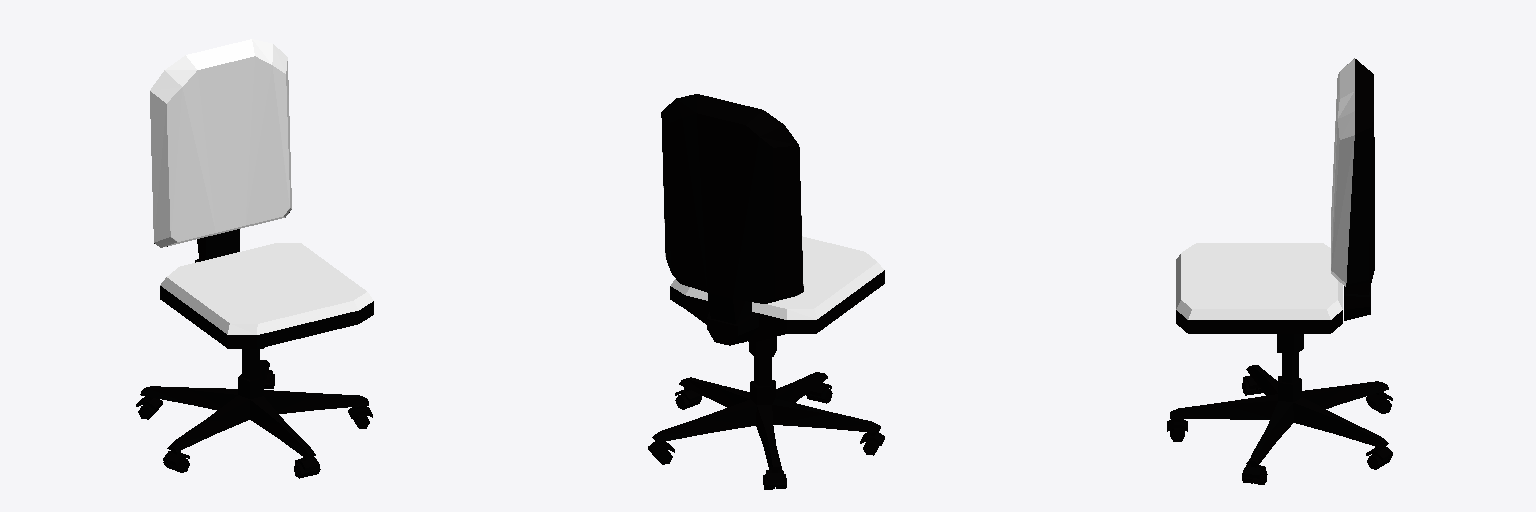
The model's file is chair2.obj.
3 renders of one model, left to right at view 1: azimuth 30°, elevation 25°; view 2: azimuth 150°, elevation 25°; view 3: azimuth 270°, elevation 25°, orthographic.
Visible parts, largest first — view 1: Object.1; view 2: Object.1; view 3: Object.1.
Part boxes in pixels (bbox=[...]): Object.1: bbox=[136, 39, 373, 478]; Object.1: bbox=[648, 94, 884, 489]; Object.1: bbox=[1167, 58, 1392, 484].
Bounding box in the file's own units: 8.9 × 15 × 8.46.